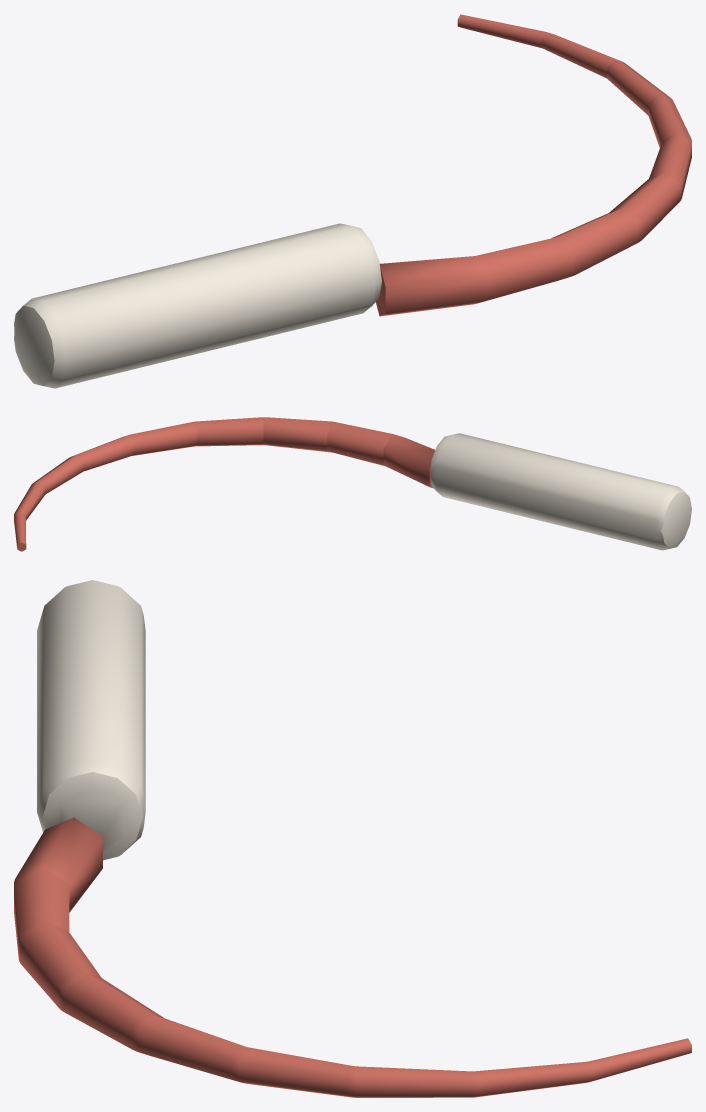
File: forage_sickle.glb
3 views of the same model, one above another, from view 1: azimuth 30°, elevation 25°; view 2: azimuth 150°, elevation 25°; view 3: azimuth 270°, elevation 25° (orthographic). The views are drawn at different scales.
Parts seen in each view (by area): view 1: PART; view 2: PART; view 3: PART.
Part boxes in pixels (bbox=[...]): PART: bbox=[14, 14, 691, 388]; PART: bbox=[14, 417, 691, 551]; PART: bbox=[14, 580, 691, 1097].
Bounding box in the file's own units: 0.2246 × 0.0255 × 0.1458.
